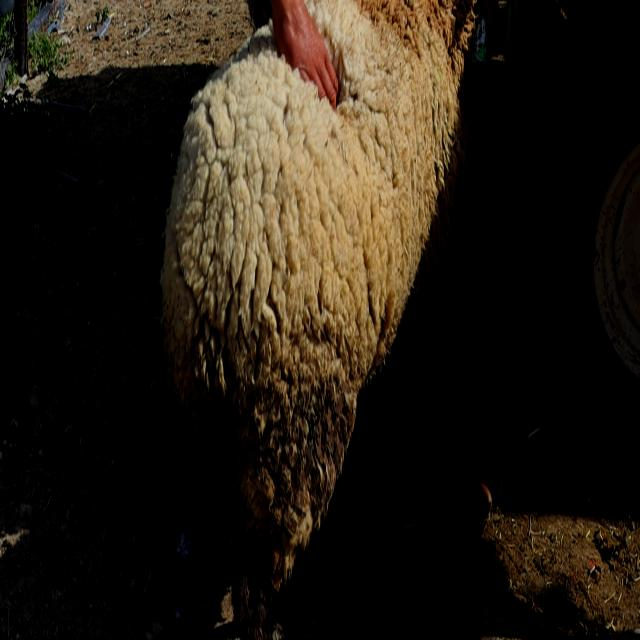Score_5: (161, 0, 493, 639)
